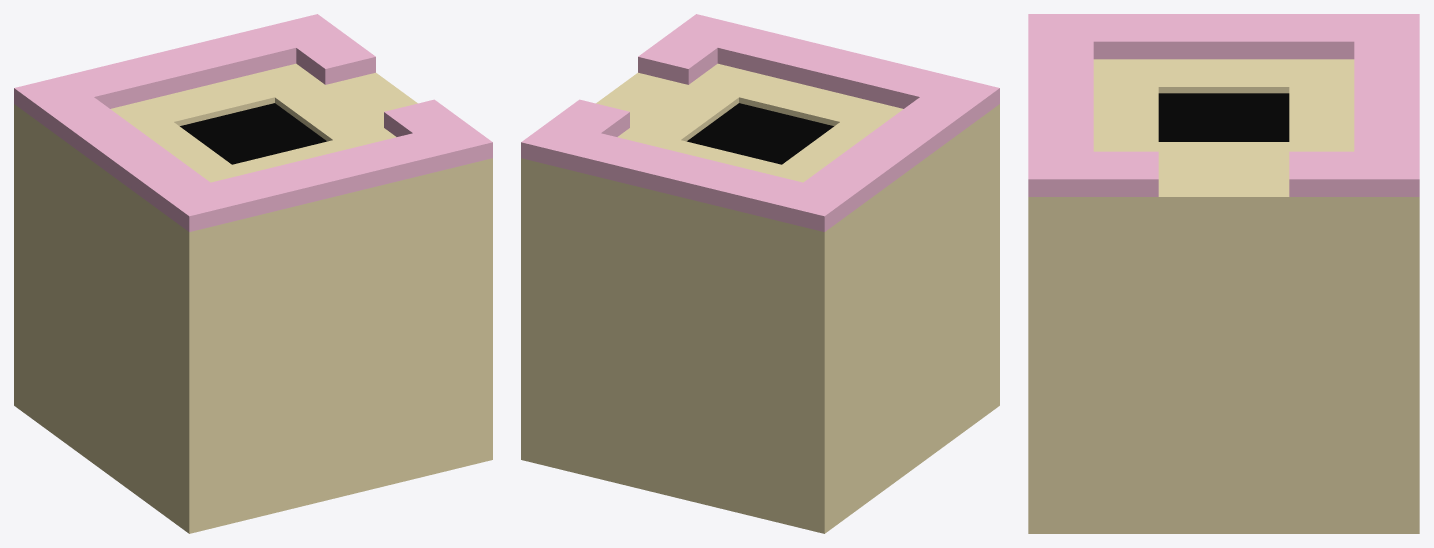
File: CandylandEndCube.fbx
3 renders of one model, left to right at view 1: azimuth 30°, elevation 25°; view 2: azimuth 150°, elevation 25°; view 3: azimuth 270°, elevation 25°, orthographic. The views are drawn at different scales.
Visible parts, largest first — view 1: CandylandEndCube; view 2: CandylandEndCube; view 3: CandylandEndCube.
Part boxes in pixels (x1,y1,x2,y2): CandylandEndCube: (14, 14, 492, 533); CandylandEndCube: (521, 14, 999, 533); CandylandEndCube: (1028, 14, 1419, 533).
Bounding box in the file's own units: 1 × 1 × 1.
